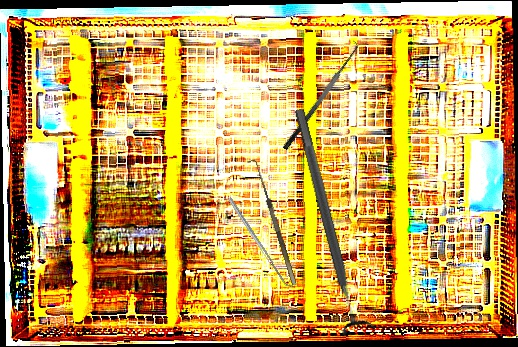Fixation Ring: (282, 104, 377, 338)
Hook Surgical: (246, 158, 298, 288)
Spatula Surgical: (273, 38, 365, 151), (227, 194, 295, 292)
